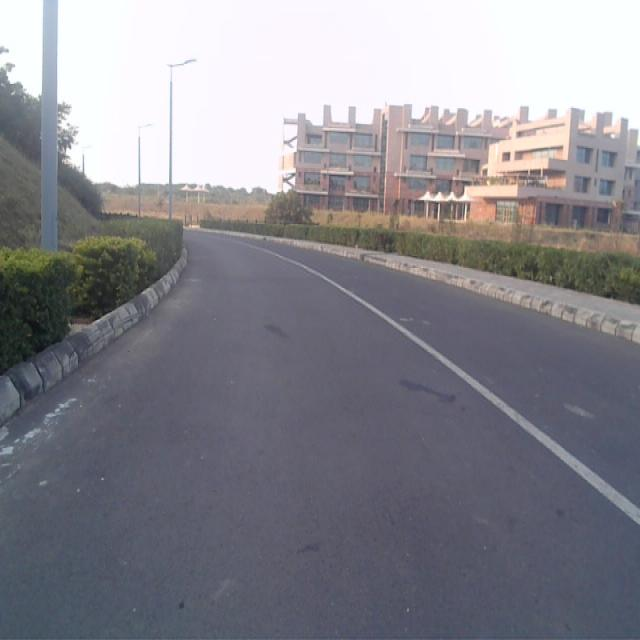lane: (0, 236, 640, 640)
